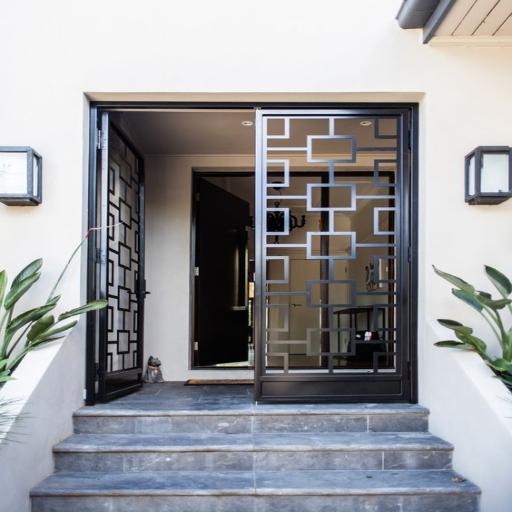Door: (254, 109, 410, 401), (93, 110, 146, 400), (192, 174, 252, 368)
Stairs: (34, 394, 477, 512)
